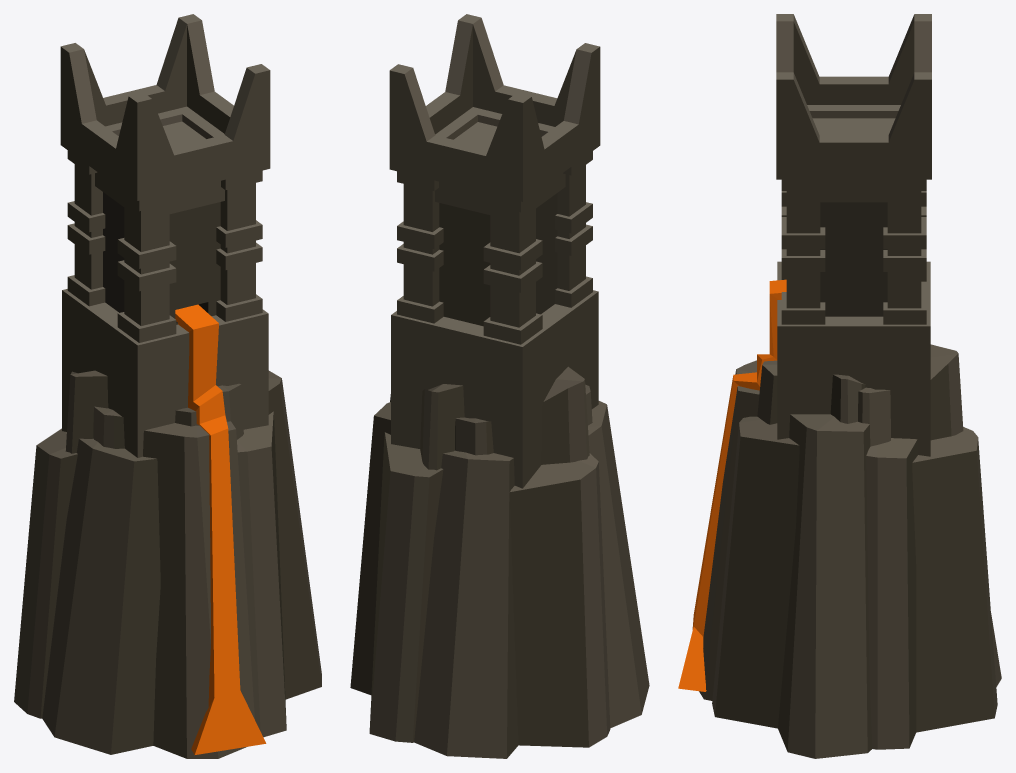
Rendered from SF_Bld_Undead_Castle_Wall_Tower_01.fbx.
3 renders of one model, left to right at view 1: azimuth 30°, elevation 25°; view 2: azimuth 150°, elevation 25°; view 3: azimuth 270°, elevation 25°, orthographic.
Parts seen in each view (by area): view 1: SF_Bld_Undead_Castle_Wall_Tower_01; view 2: SF_Bld_Undead_Castle_Wall_Tower_01; view 3: SF_Bld_Undead_Castle_Wall_Tower_01.
Boxes of the visible parts, x1,y1,x2,y2 form: SF_Bld_Undead_Castle_Wall_Tower_01: [14, 14, 321, 758]; SF_Bld_Undead_Castle_Wall_Tower_01: [350, 14, 649, 758]; SF_Bld_Undead_Castle_Wall_Tower_01: [678, 14, 1001, 758].
Size of the model in its own units: 12.15 by 27.71 by 12.62.
